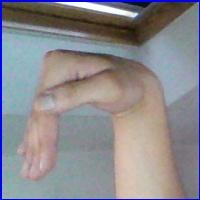del: (13, 39, 168, 185)
